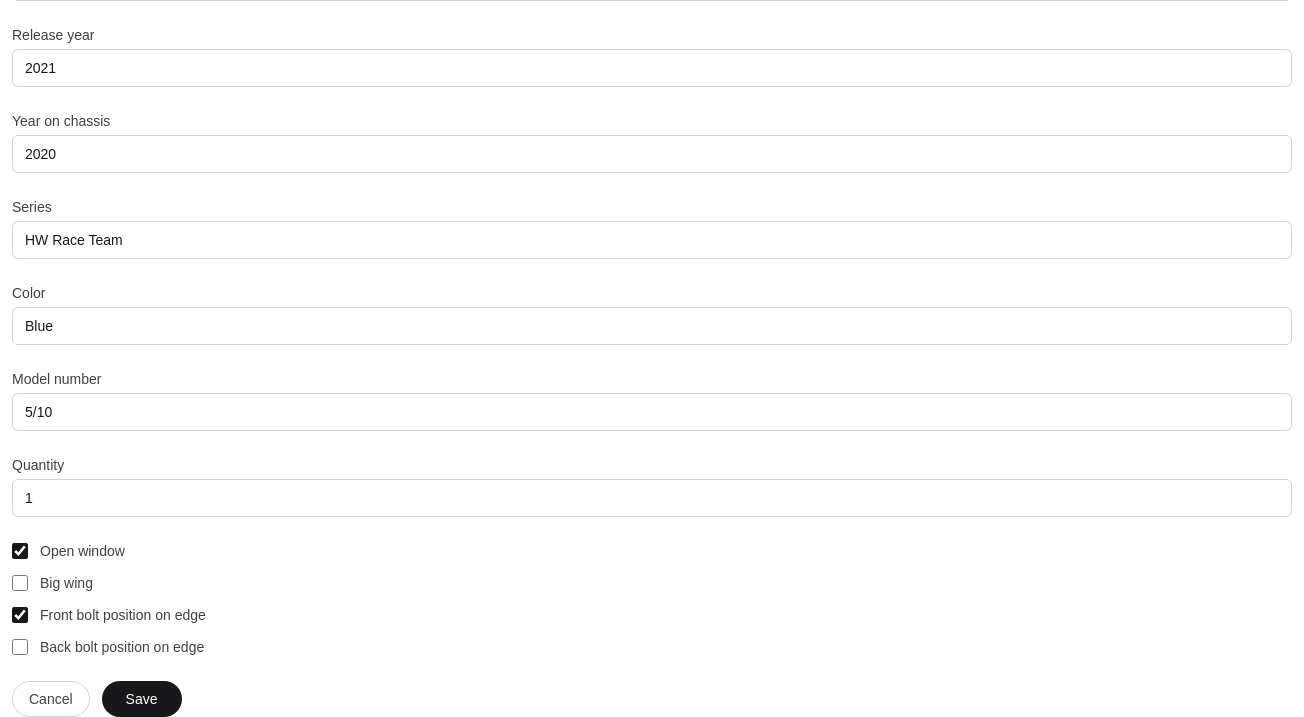
Test: EditForm › shows 'Saving…' while submission is in flight
(page scrolled)
What coordinates should you click on to do the following:
click the button "Save"
I would click on:
 (142, 699)
Its box is 102,681 -> 182,716.
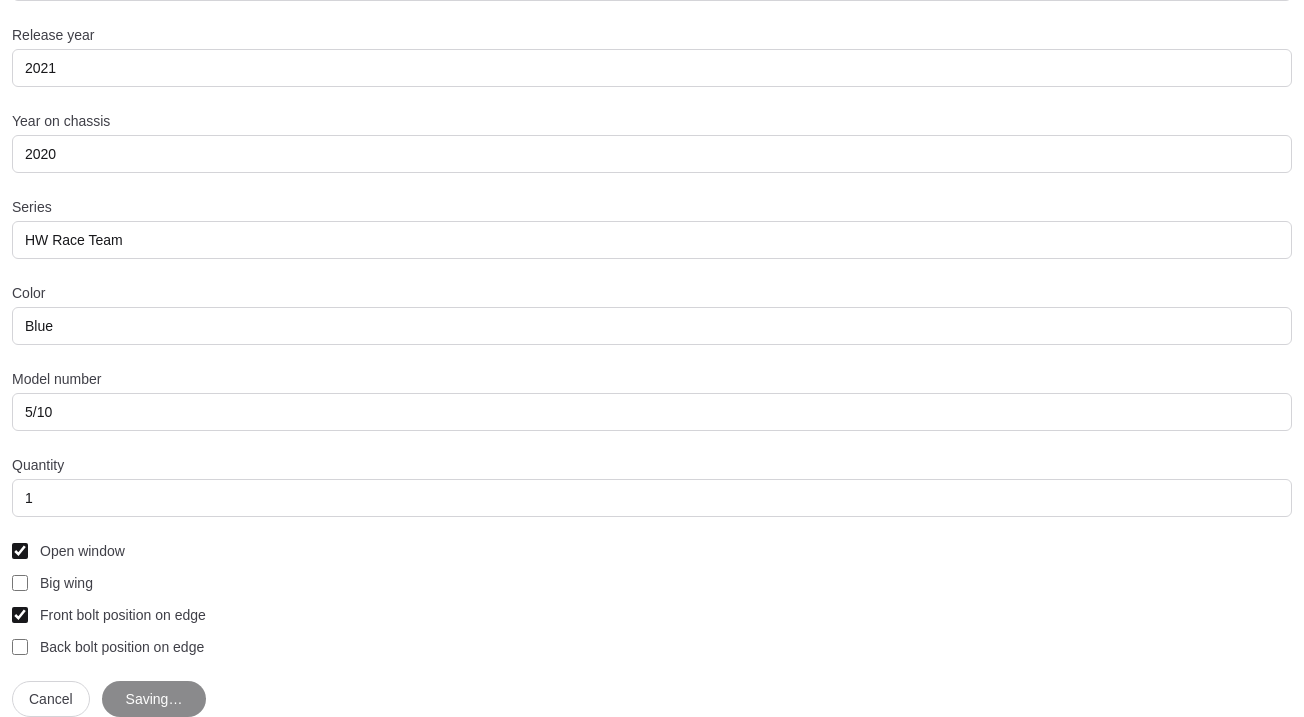
Result: the button "Saving…" is disabled at 102,681 -> 206,716
